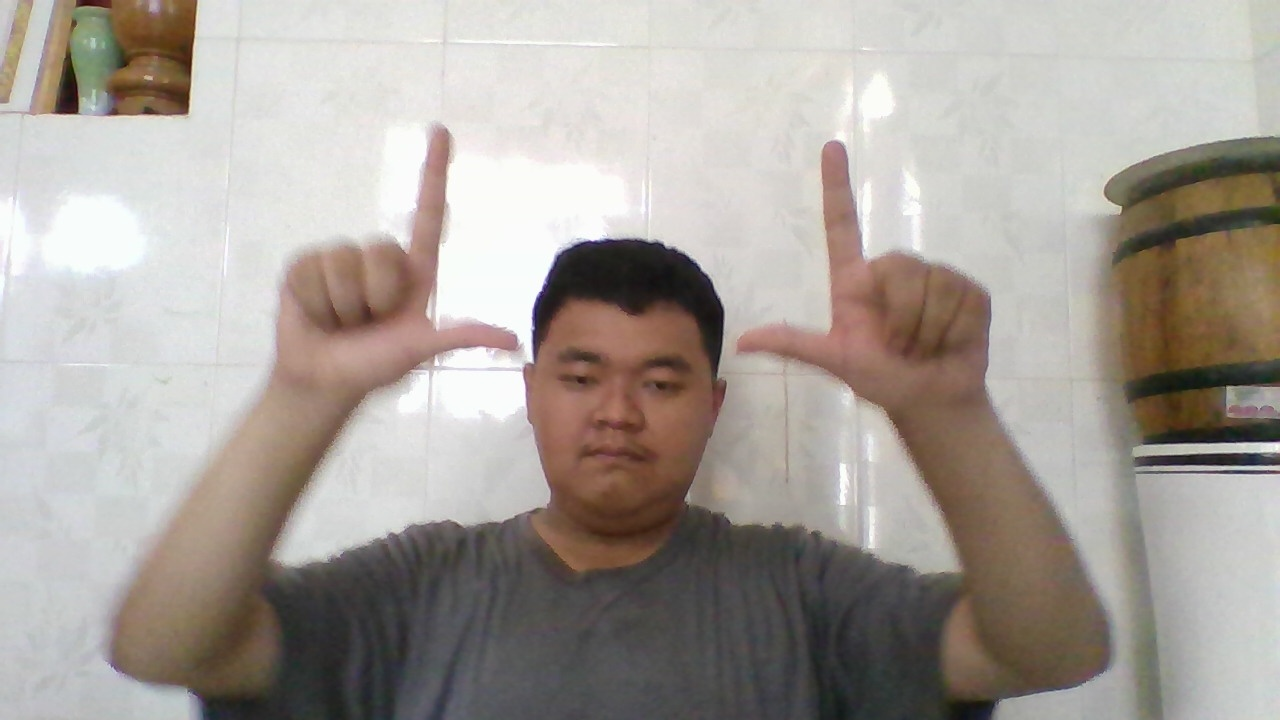L: (735, 132, 989, 418), (288, 122, 522, 396)
